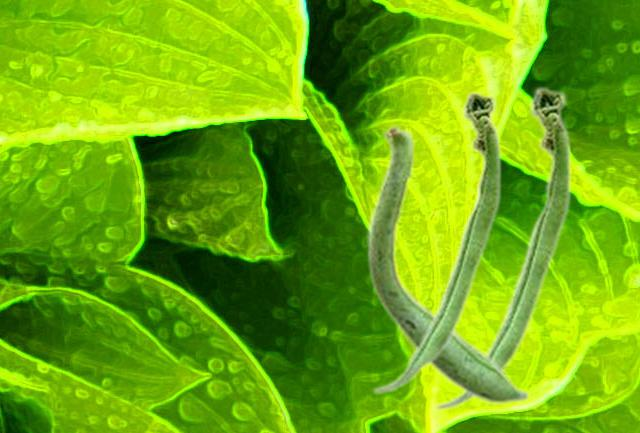french_bean: (366, 122, 530, 405), (432, 84, 571, 411), (371, 89, 501, 394)
